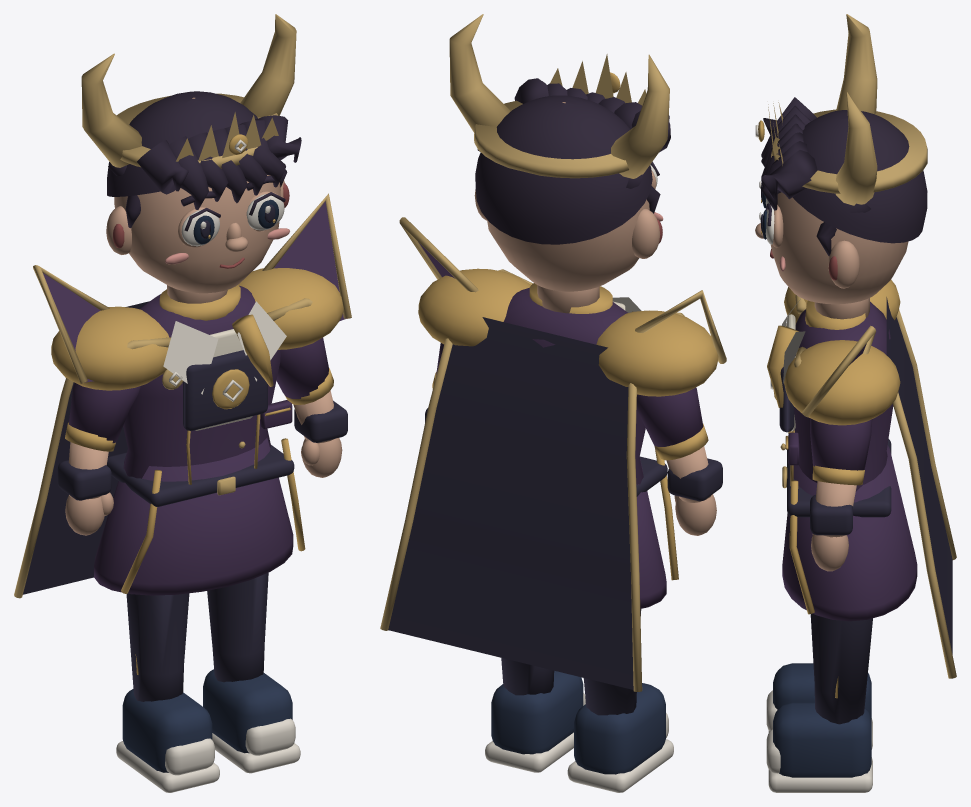
The model's file is elite_dragon_master.glb.
The picture shows the model from 3 angles, left to right: view 1: azimuth 30°, elevation 25°; view 2: azimuth 150°, elevation 25°; view 3: azimuth 270°, elevation 25°; orthographic projection. The views are drawn at different scales.
Parts seen in each view (by area): view 1: figure.028; view 2: figure.028; view 3: figure.028.
Boxes of the visible parts, box(x1,y1,x2,y2) form: figure.028: box(14, 14, 351, 792); figure.028: box(380, 14, 726, 792); figure.028: box(755, 14, 956, 792).
Size of the model in its own units: 1.28 by 2.96 by 0.763.
